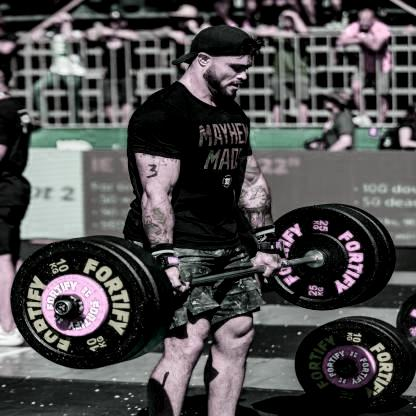barbell: (10, 239, 151, 371), (257, 206, 381, 312), (295, 320, 410, 413)
